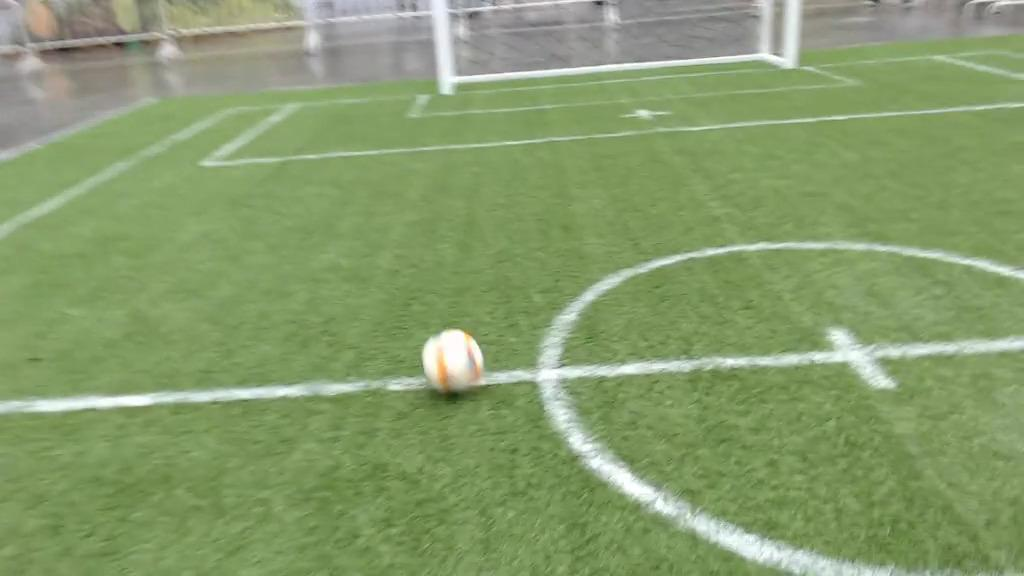ball: (421, 326, 483, 398)
